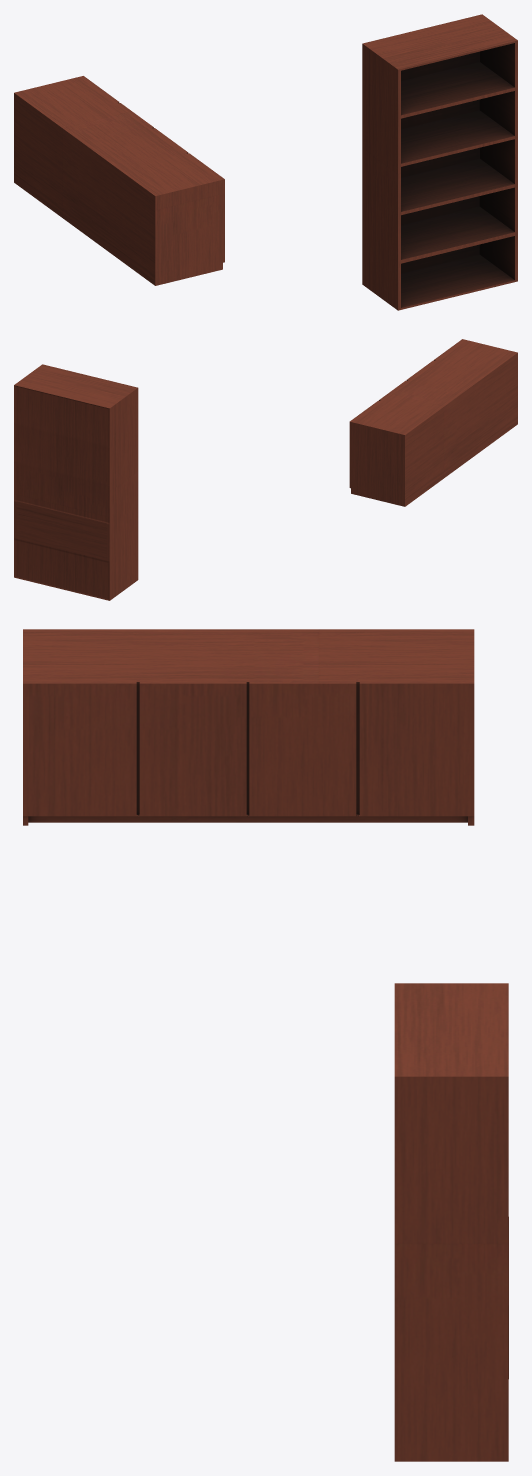
Rendered from New Shelves.fbx.
3 renders of one model, top to bottom at view 1: azimuth 30°, elevation 25°; view 2: azimuth 150°, elevation 25°; view 3: azimuth 270°, elevation 25°, orthographic. The views are drawn at different scales.
Parts seen in each view (by area): view 1: pCube160, pCube121; view 2: pCube160, pCube121; view 3: pCube121, pCube160.
Part boxes in pixels (x1,y1,x2,y2): pCube160: (362,14,517,310); pCube121: (14,76,224,285); pCube160: (14,364,138,600); pCube121: (349,339,517,506); pCube121: (23,629,474,825); pCube160: (394,983,508,1461).
Bounding box in the file's own units: 52.73 × 30.22 × 29.02.
1 material, 1 textured.
